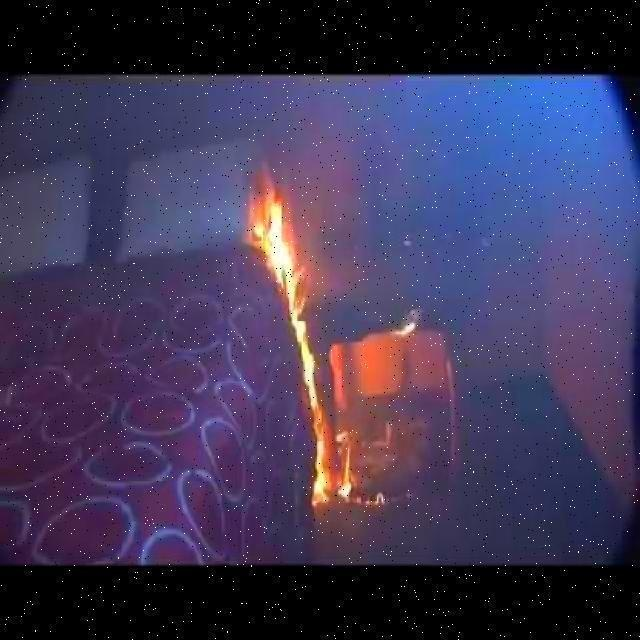fire: (227, 162, 396, 522)
